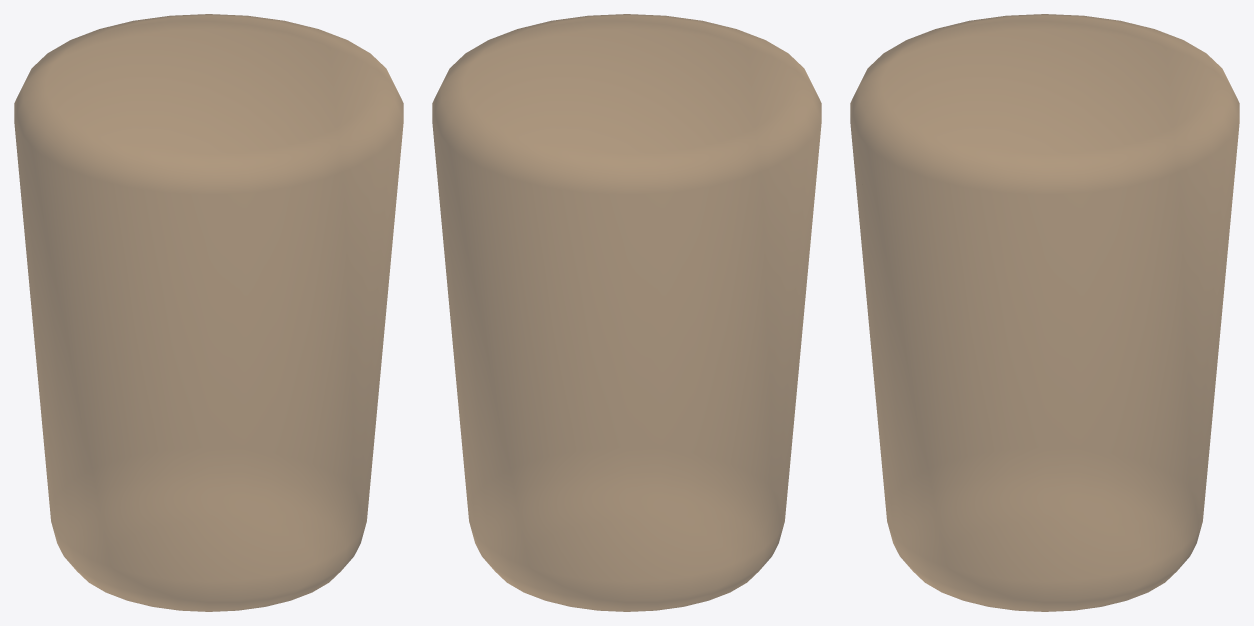
The model's file is Tea.glb.
The picture shows the model from 3 angles, left to right: view 1: azimuth 30°, elevation 25°; view 2: azimuth 150°, elevation 25°; view 3: azimuth 270°, elevation 25°; orthographic projection.
Visible parts, largest first — view 1: Tea; view 2: Tea; view 3: Tea.
Part boxes in pixels (bbox=[...]): Tea: bbox=[14, 14, 403, 611]; Tea: bbox=[432, 14, 821, 611]; Tea: bbox=[850, 14, 1239, 611].
Size of the model in its own units: 8.63 by 11.78 by 8.58.
